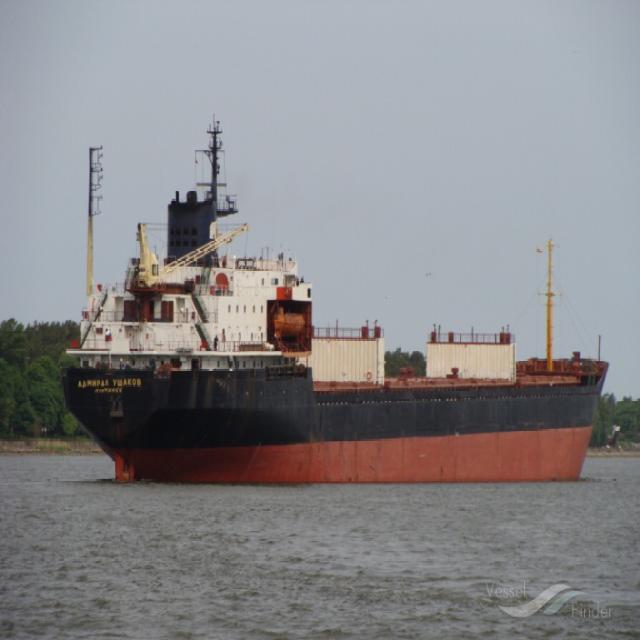OCR: (76, 376, 144, 404)
